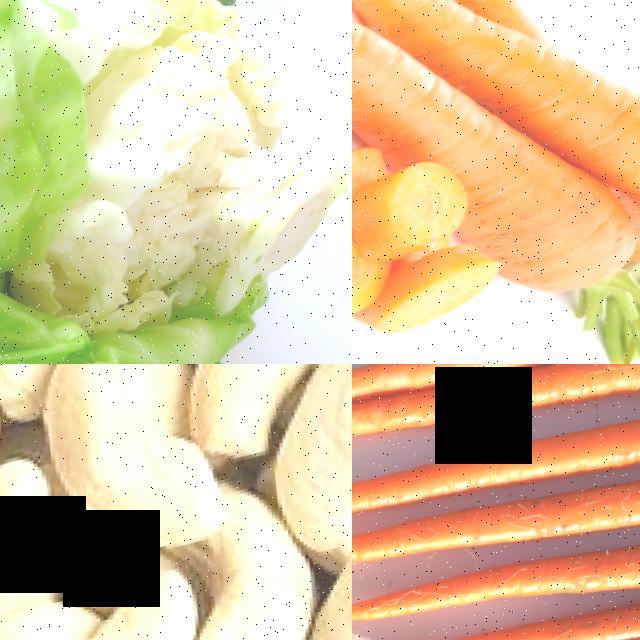cabbage: (0, 0, 352, 364)
carrot: (352, 418, 640, 593), (352, 470, 640, 640), (352, 369, 640, 526), (469, 136, 640, 344), (352, 524, 640, 640), (352, 364, 640, 479)
cashew: (30, 364, 241, 586), (199, 502, 341, 640), (0, 443, 91, 629), (178, 364, 352, 442), (287, 364, 352, 525)
